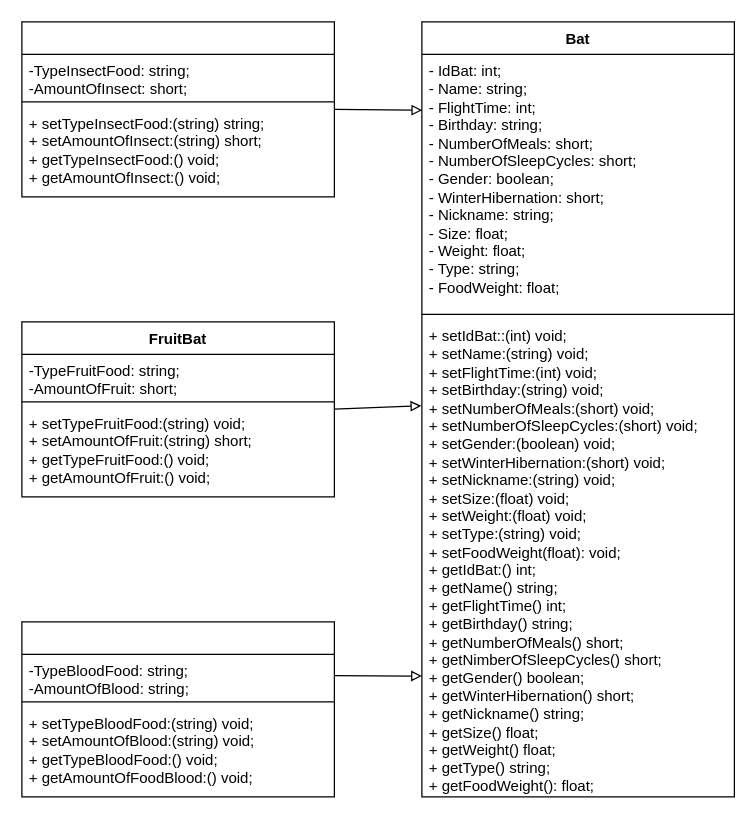
Some shapes in this 756 by 823 pixel diagram are drawn without their labels. The shapes that lost their labels are listed below. From the top down, each one's box as (x1, y1, x2, y2) in pixels, then its label:
(21, 21, 334, 197): InsectBat
(21, 621, 334, 797): BloodBat
